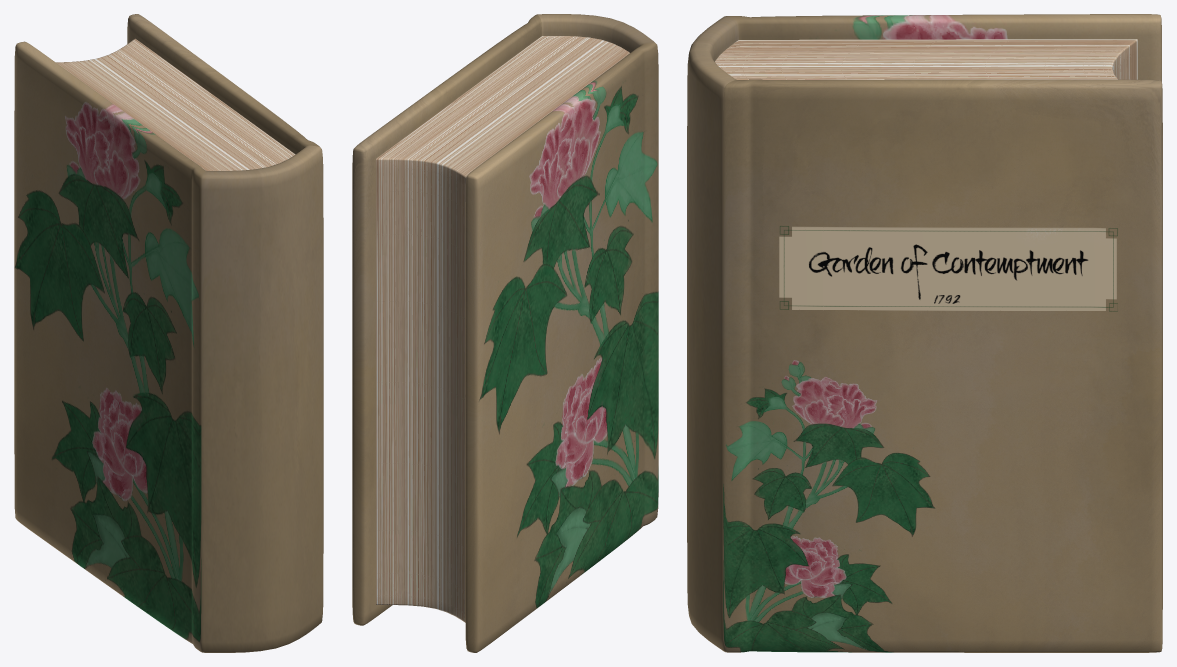
Rendered from book-4.glb.
3 renders of one model, left to right at view 1: azimuth 30°, elevation 25°; view 2: azimuth 150°, elevation 25°; view 3: azimuth 270°, elevation 25°, orthographic. The views are drawn at different scales.
Visible parts, largest first — view 1: Garden of contemptment, Book Pages.004; view 2: Garden of contemptment, Book Pages.004; view 3: Garden of contemptment, Book Pages.004.
Part boxes in pixels (x1=…): Garden of contemptment: x1=14, y1=14, x2=323, y2=652; Book Pages.004: x1=56, y1=38, x2=295, y2=170; Garden of contemptment: x1=352, y1=14, x2=658, y2=652; Book Pages.004: x1=376, y1=36, x2=629, y2=622; Garden of contemptment: x1=687, y1=14, x2=1162, y2=652; Book Pages.004: x1=715, y1=39, x2=1137, y2=79.
Bounding box in the file's own units: 0.2944 × 1.05 × 0.793.
2 materials, 2 textured.
